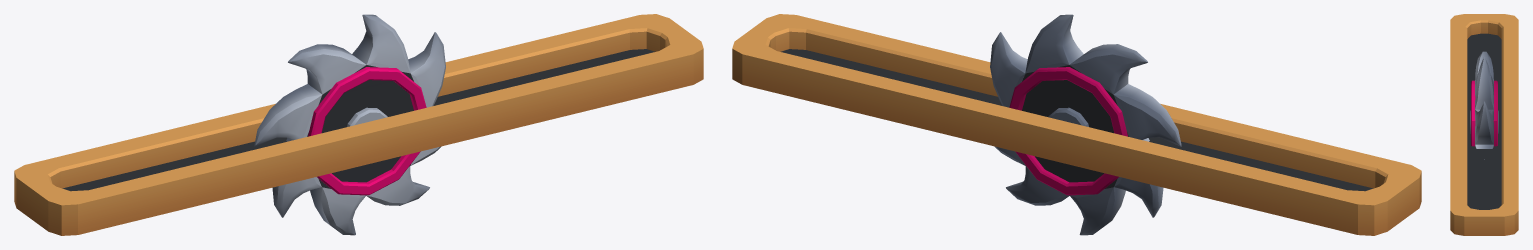
The model's file is Saw_Blade.fbx.
3 views of the same model, side by side, from view 1: azimuth 30°, elevation 25°; view 2: azimuth 150°, elevation 25°; view 3: azimuth 270°, elevation 25° (orthographic). The views are drawn at different scales.
Visible parts, largest first — view 1: Saw_Blade, Blade; view 2: Saw_Blade, Blade; view 3: Saw_Blade, Blade.
Boxes of the visible parts, x1,y1,x2,y2 form: Saw_Blade: (14, 14, 703, 235); Blade: (254, 14, 445, 235); Saw_Blade: (732, 14, 1421, 235); Blade: (990, 14, 1181, 235); Saw_Blade: (1450, 14, 1518, 235); Blade: (1470, 51, 1498, 159).
Bounding box in the file's own units: 604 × 193 × 86.07.
1 material, 1 textured.
